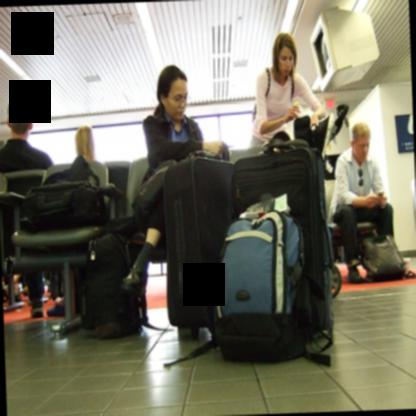backpack: (211, 206, 331, 368), (81, 234, 160, 341), (253, 69, 295, 122)
handbag: (359, 235, 416, 283), (131, 160, 176, 218)
suitcase: (233, 135, 342, 333), (161, 152, 241, 331), (23, 181, 101, 230)
